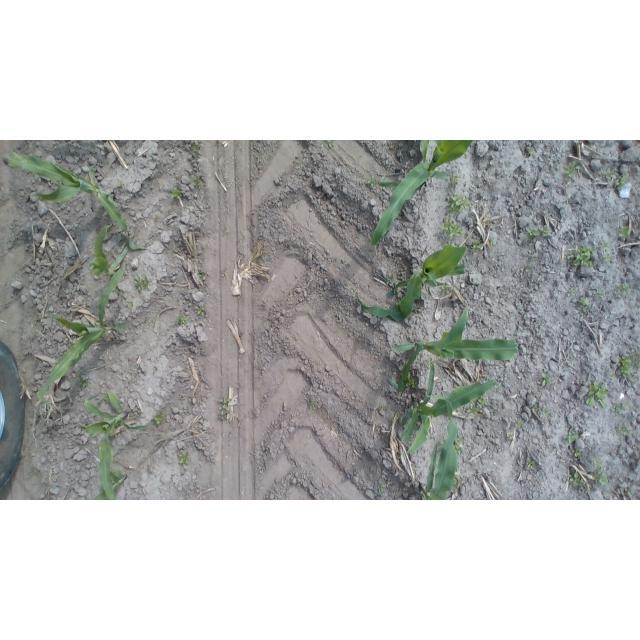Maize: (4, 145, 153, 253), (35, 260, 133, 407), (385, 305, 522, 393), (369, 141, 477, 248), (397, 357, 501, 460), (351, 244, 471, 323), (77, 382, 156, 500), (417, 417, 467, 500), (87, 223, 126, 283), (88, 470, 131, 500)
Weeds: (610, 355, 640, 384), (598, 167, 631, 190), (568, 245, 597, 269), (583, 381, 608, 408), (445, 193, 472, 218), (588, 462, 608, 491), (218, 395, 235, 423), (442, 219, 465, 237), (560, 161, 580, 181), (567, 468, 585, 489), (468, 396, 489, 414), (527, 225, 551, 240), (133, 276, 156, 291), (73, 371, 91, 390), (526, 252, 540, 276), (610, 400, 630, 416), (561, 428, 578, 446), (175, 450, 193, 467), (532, 403, 553, 417), (175, 313, 193, 329), (373, 478, 387, 498), (613, 282, 630, 298), (190, 174, 206, 191), (451, 474, 466, 490), (170, 186, 186, 201), (540, 373, 555, 388), (471, 238, 486, 253), (440, 283, 454, 299), (619, 224, 631, 242), (615, 425, 629, 440), (524, 457, 538, 472), (576, 295, 593, 307), (601, 243, 611, 263), (406, 373, 419, 388), (363, 176, 377, 189), (448, 175, 460, 190), (154, 413, 167, 426), (198, 269, 211, 282), (181, 366, 196, 376), (596, 288, 610, 298), (191, 141, 201, 155), (222, 225, 233, 237), (217, 266, 228, 278), (194, 306, 207, 316), (573, 449, 584, 460), (567, 286, 577, 298), (149, 211, 161, 221), (118, 180, 127, 193), (625, 487, 635, 498), (503, 431, 514, 441), (527, 147, 536, 159), (308, 402, 320, 411), (514, 419, 523, 429), (132, 411, 141, 421), (490, 237, 498, 248), (324, 141, 336, 148), (125, 301, 135, 309), (385, 276, 391, 285)
